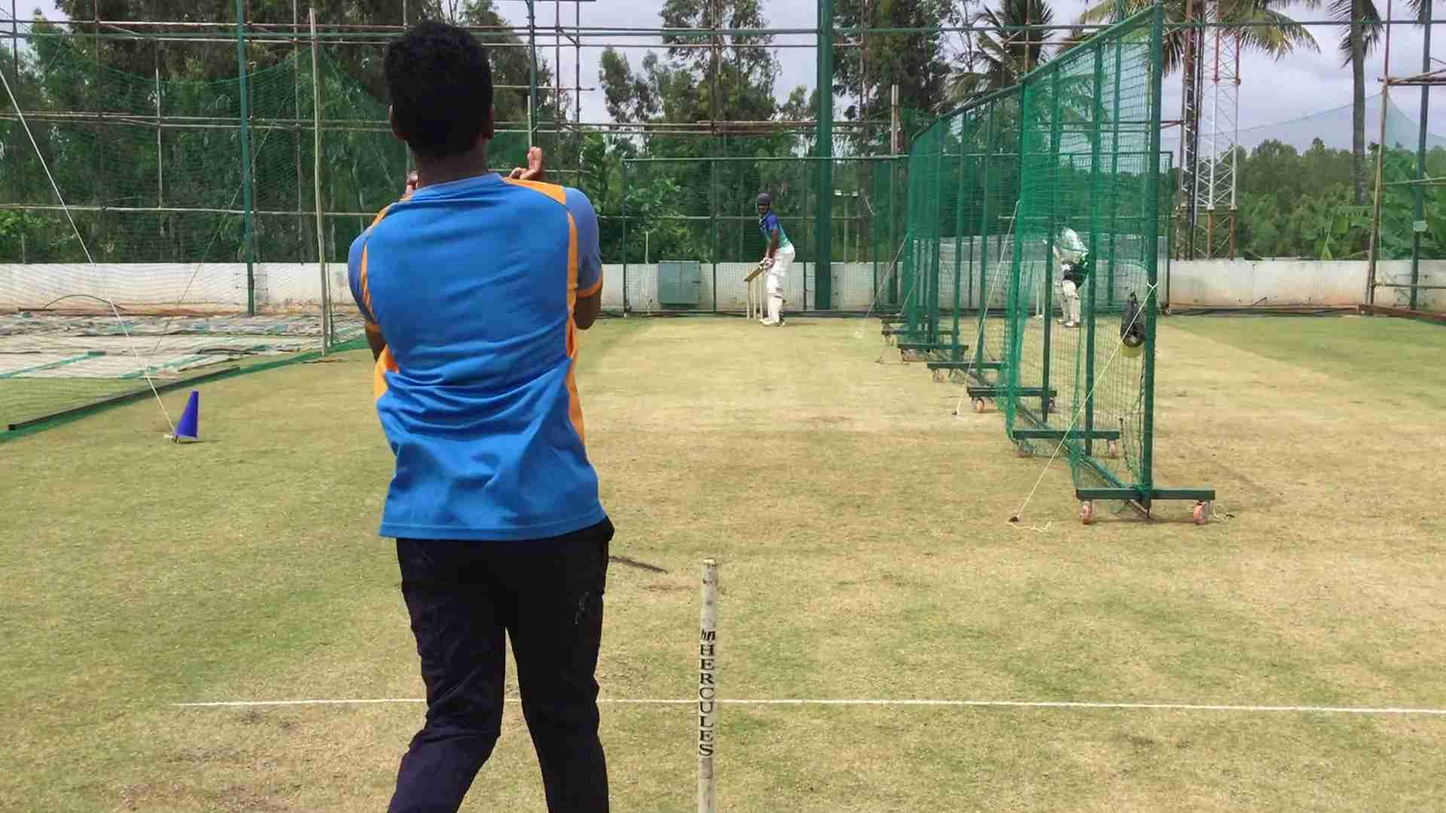batsman: (745, 182, 802, 334)
